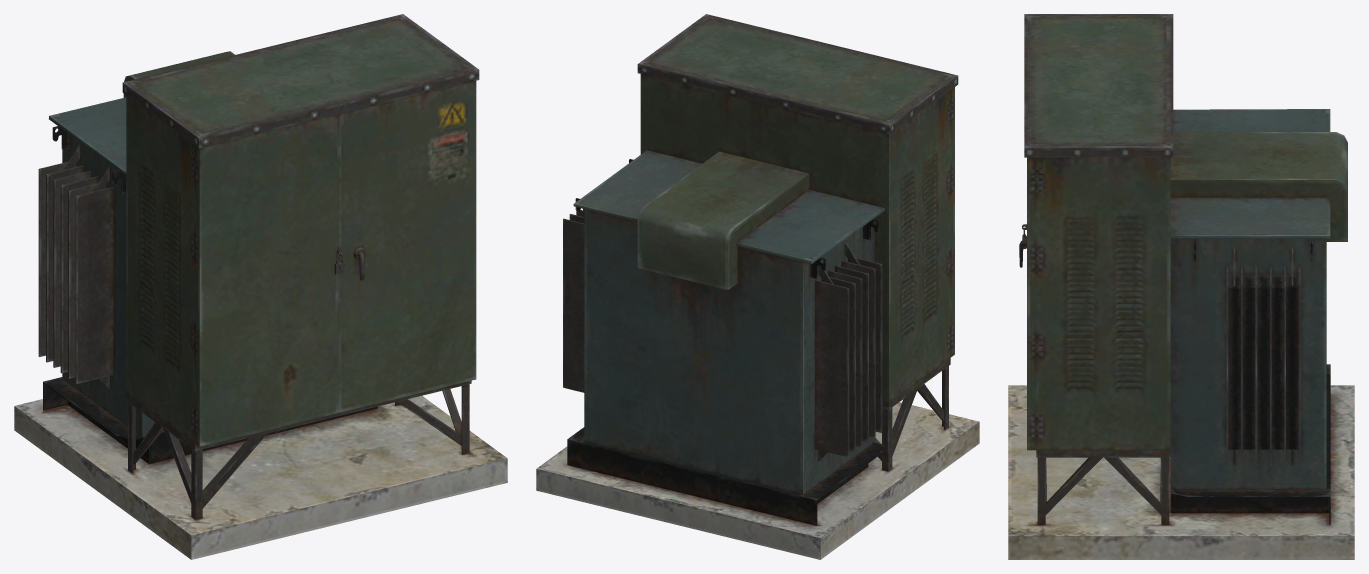
File: sm22_090_rooftoppartsg.fbx
3 views of the same model, side by side, from view 1: azimuth 30°, elevation 25°; view 2: azimuth 150°, elevation 25°; view 3: azimuth 270°, elevation 25° (orthographic). The views are drawn at different scales.
Parts seen in each view (by area): view 1: LOD_1_Group_0_Sub_1__sm22_090_rooftopPartsG_A_Mat; view 2: LOD_1_Group_0_Sub_1__sm22_090_rooftopPartsG_A_Mat; view 3: LOD_1_Group_0_Sub_1__sm22_090_rooftopPartsG_A_Mat.
Part boxes in pixels (<box>): LOD_1_Group_0_Sub_1__sm22_090_rooftopPartsG_A_Mat: <box>14,14,507,559</box>; LOD_1_Group_0_Sub_1__sm22_090_rooftopPartsG_A_Mat: <box>536,14,979,559</box>; LOD_1_Group_0_Sub_1__sm22_090_rooftopPartsG_A_Mat: <box>1008,14,1354,559</box>.
Bounding box in the file's own units: 1.3 × 1.6 × 1.25.
